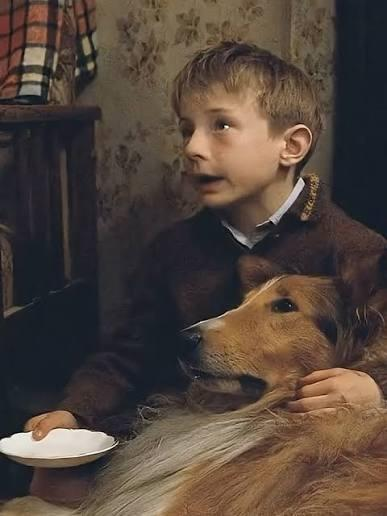adult_dog: (2, 267, 387, 516)
